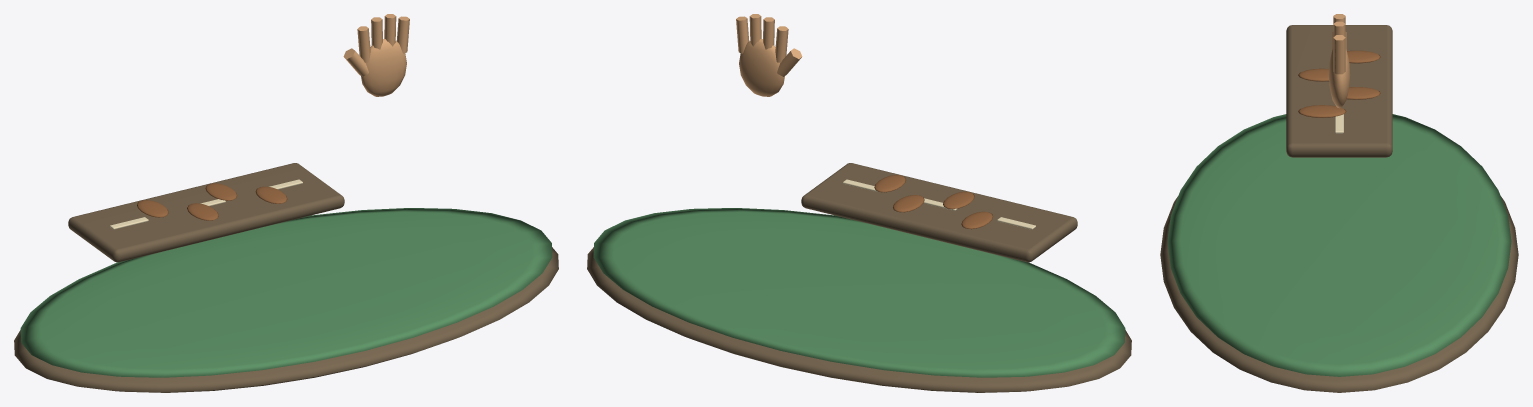
File: complete-second-road-experience.glb
3 views of the same model, side by side, from view 1: azimuth 30°, elevation 25°; view 2: azimuth 150°, elevation 25°; view 3: azimuth 270°, elevation 25° (orthographic). The views are drawn at different scales.
Visible parts, largest first — view 1: complete-second-road-experience_surface_01, complete-second-road-experience_surface_00, complete-second-road-experience_surface_03, complete-second-road-experience_surface_04, complete-second-road-experience_surface_02; view 2: complete-second-road-experience_surface_01, complete-second-road-experience_surface_00, complete-second-road-experience_surface_03, complete-second-road-experience_surface_04, complete-second-road-experience_surface_02; view 3: complete-second-road-experience_surface_01, complete-second-road-experience_surface_00, complete-second-road-experience_surface_04, complete-second-road-experience_surface_03.
Part boxes in pixels (<box>): complete-second-road-experience_surface_01: <box>20,208,552,377</box>; complete-second-road-experience_surface_00: <box>14,163,558,392</box>; complete-second-road-experience_surface_03: <box>343,14,409,96</box>; complete-second-road-experience_surface_04: <box>137,183,287,220</box>; complete-second-road-experience_surface_02: <box>110,179,302,229</box>; complete-second-road-experience_surface_01: <box>593,208,1125,377</box>; complete-second-road-experience_surface_00: <box>587,163,1131,392</box>; complete-second-road-experience_surface_03: <box>736,14,802,96</box>; complete-second-road-experience_surface_04: <box>874,175,993,229</box>; complete-second-road-experience_surface_02: <box>843,179,1035,229</box>; complete-second-road-experience_surface_01: <box>1167,114,1511,376</box>; complete-second-road-experience_surface_00: <box>1160,25,1518,392</box>; complete-second-road-experience_surface_04: <box>1298,50,1380,117</box>; complete-second-road-experience_surface_03: <box>1328,14,1350,108</box>.
Bounding box in the file's own units: 4.56 × 2.33 × 2.5.
